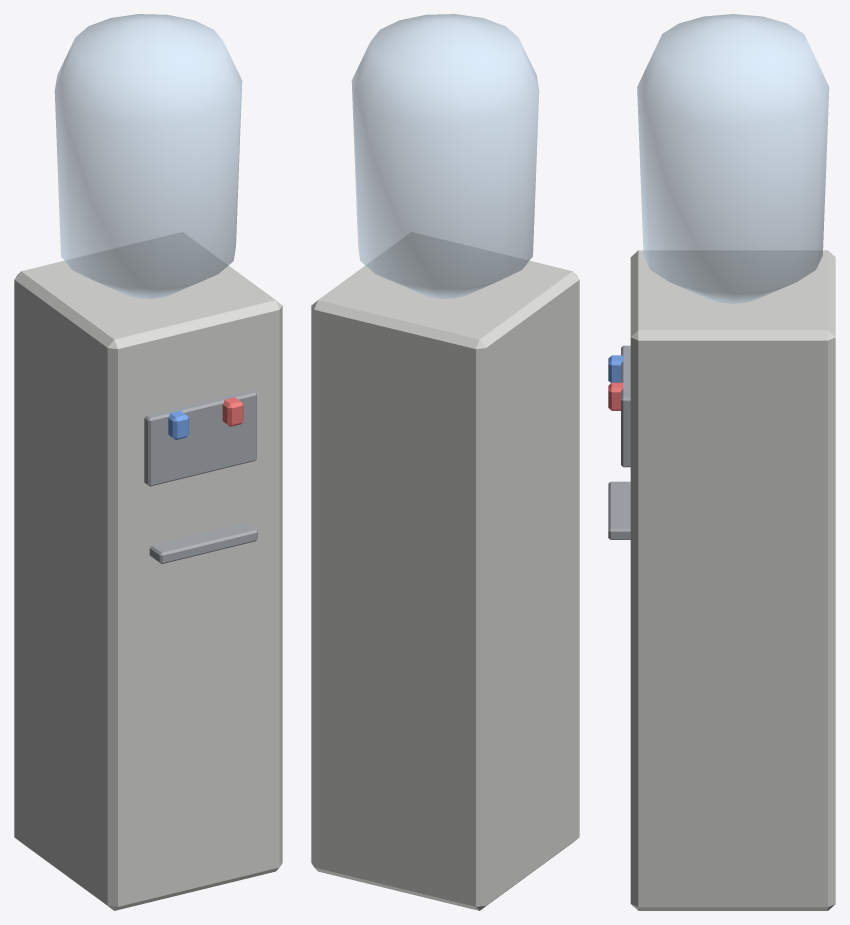
The model's file is water_cooler.glb.
3 renders of one model, left to right at view 1: azimuth 30°, elevation 25°; view 2: azimuth 150°, elevation 25°; view 3: azimuth 270°, elevation 25°, orthographic.
Parts seen in each view (by area): view 1: water_cooler; view 2: water_cooler; view 3: water_cooler.
Part boxes in pixels (bbox=[...]): water_cooler: bbox=[14, 14, 282, 910]; water_cooler: bbox=[311, 14, 579, 910]; water_cooler: bbox=[608, 14, 835, 910].
Bounding box in the file's own units: 0.32 × 1.45 × 0.355.
